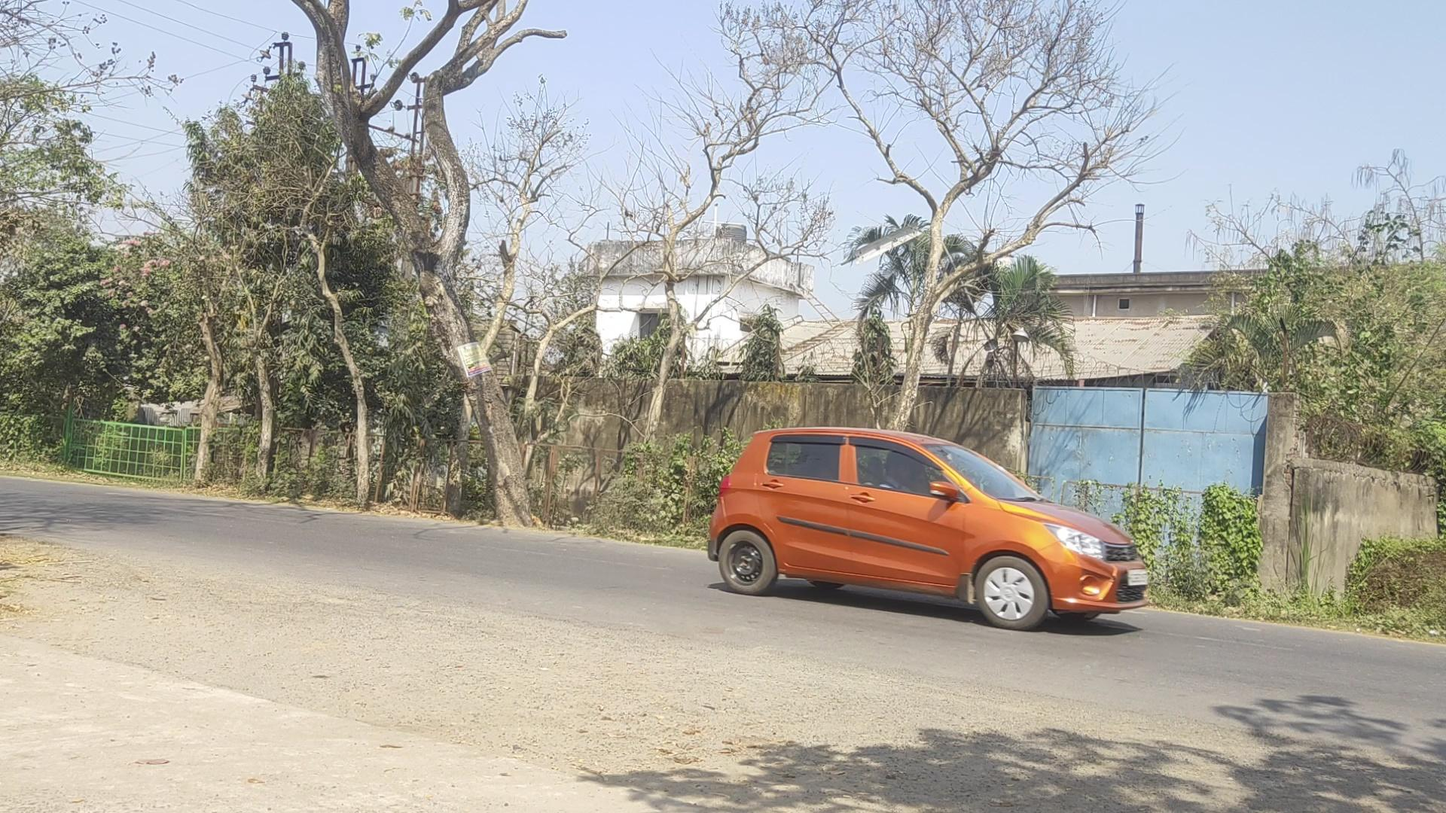car: (707, 425, 1146, 630)
